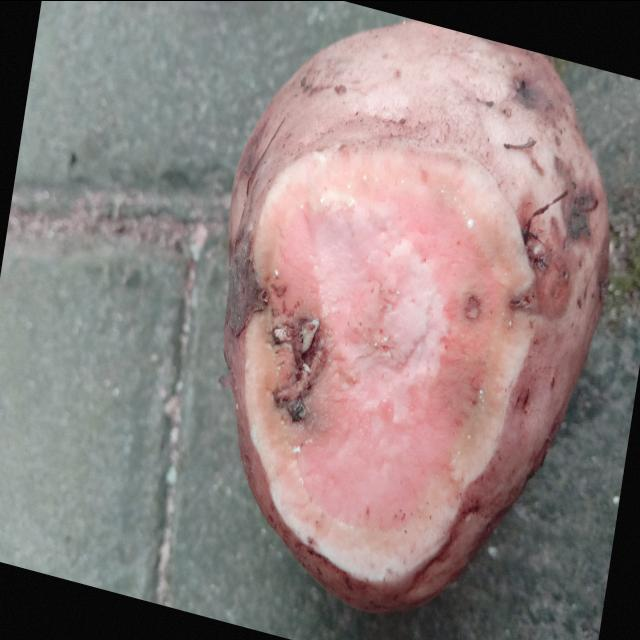Sick Sweet Potato_Tuber Rot: (245, 143, 532, 580)
